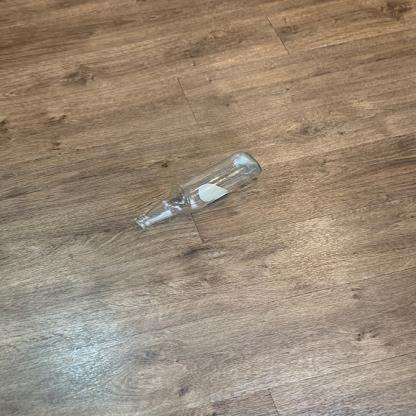trash: (135, 149, 263, 229)
